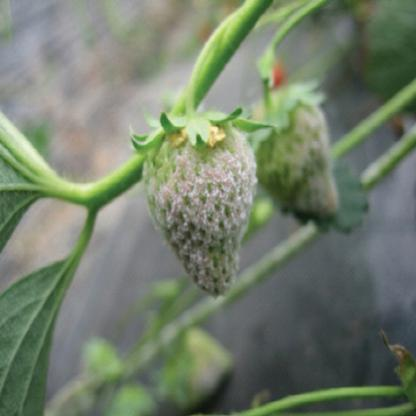Strawberry_Powdery_Mildew_Fruit: (140, 111, 258, 297), (246, 90, 340, 220)
